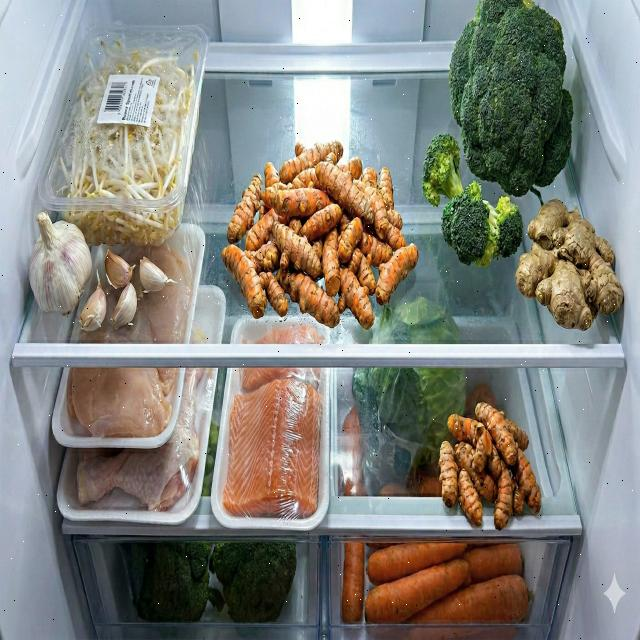bean_sprouts: (56, 38, 196, 246)
brocolli: (422, 0, 572, 268), (214, 540, 298, 624)
cabbage: (370, 296, 468, 482)
carrot: (342, 543, 529, 626)
chicken: (76, 324, 207, 512), (72, 243, 192, 439)
fish: (222, 366, 322, 519)
garlic: (80, 248, 168, 332), (29, 212, 93, 315)
ginger: (516, 198, 624, 330)
turmeric: (221, 140, 419, 328), (438, 401, 542, 528)
